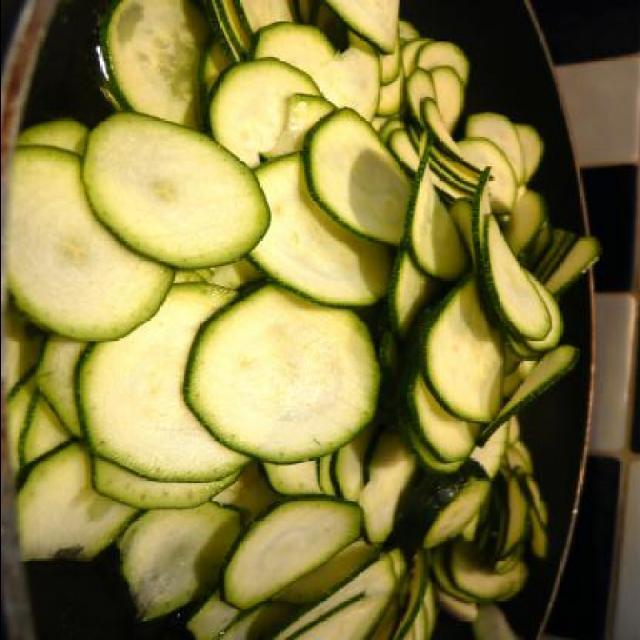Zucchini: (2, 1, 600, 639), (80, 112, 271, 272)
